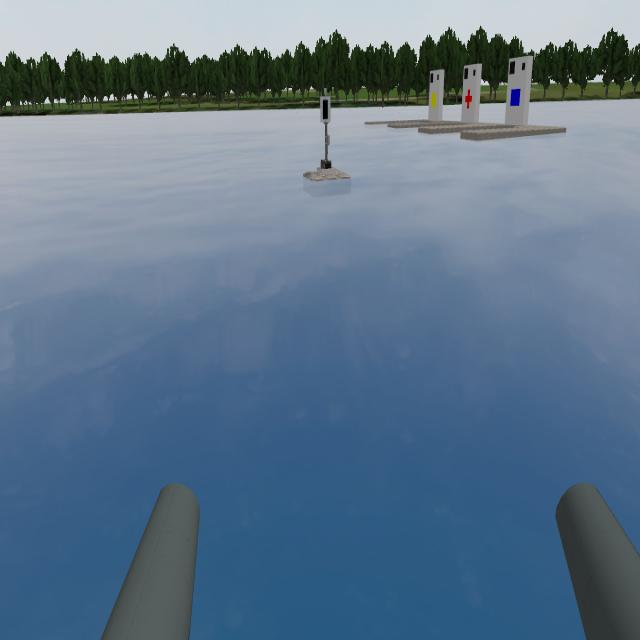black_pole: (316, 89, 335, 125)
